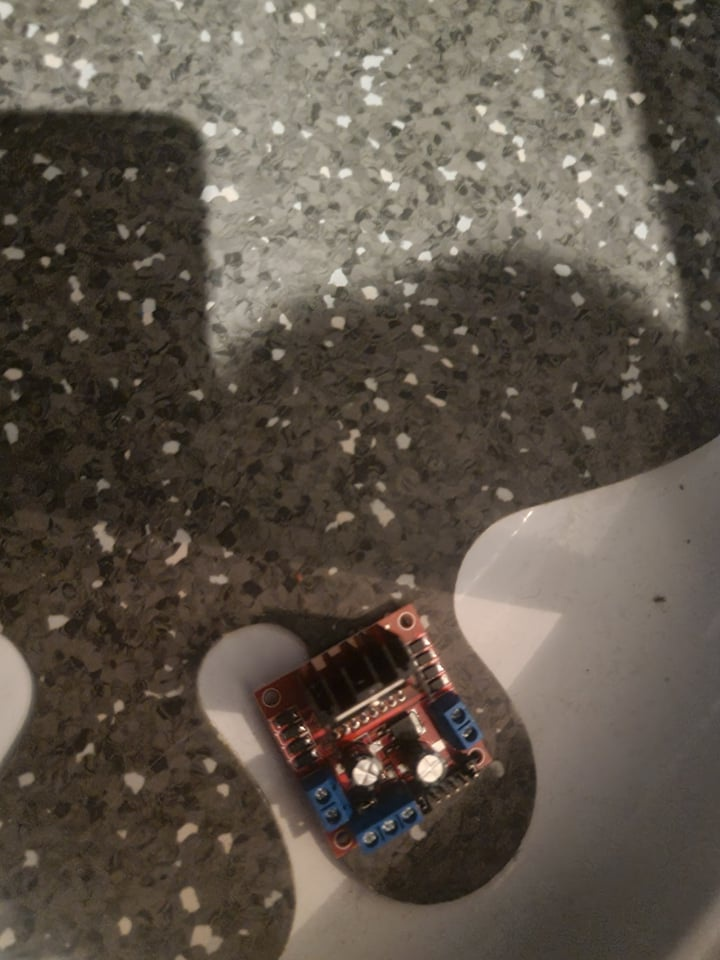MOTOR: (252, 602, 491, 864)
